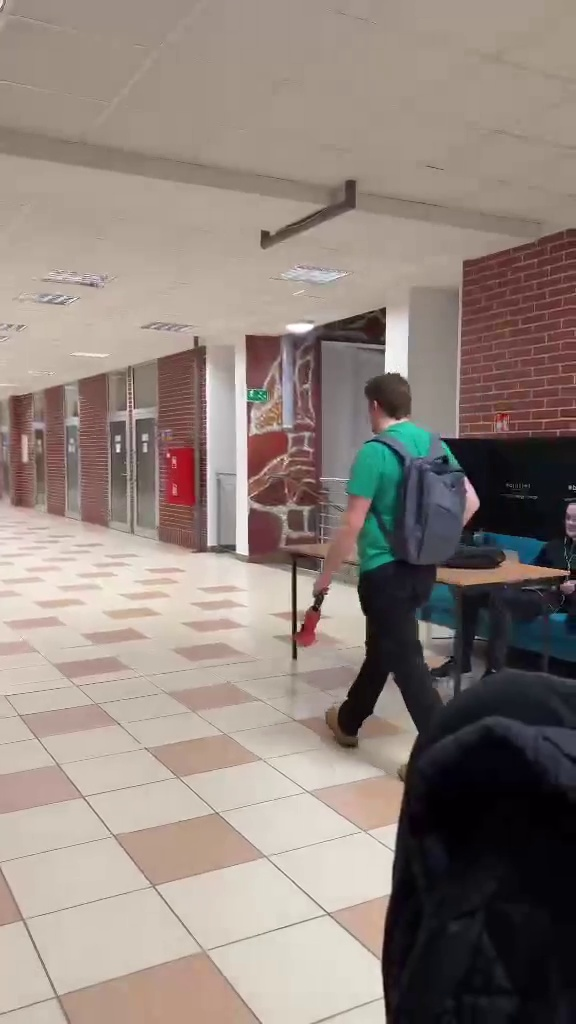no vest: (300, 379, 489, 728)
